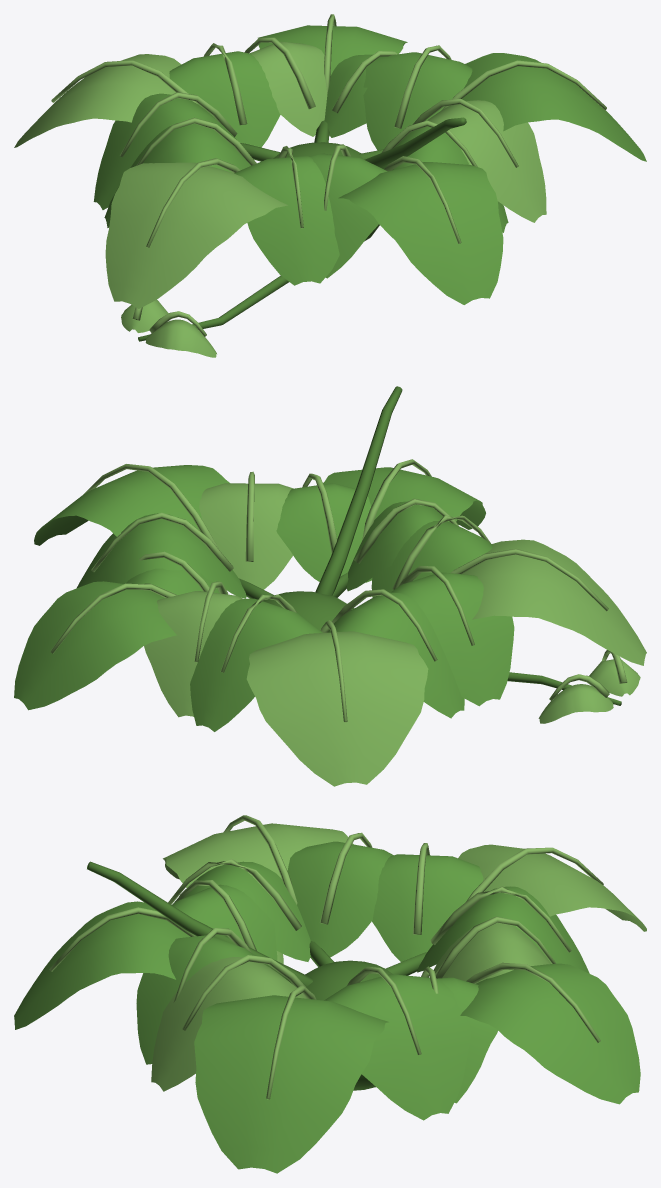
File: strawberry_plant.glb
The picture shows the model from 3 angles, top to bottom: view 1: azimuth 30°, elevation 25°; view 2: azimuth 150°, elevation 25°; view 3: azimuth 270°, elevation 25°; orthographic projection. The views are drawn at different scales.
Parts seen in each view (by area): view 1: StrawberryPlant | foliage and petioles, StrawberryPlant | crown; view 2: StrawberryPlant | foliage and petioles, StrawberryPlant | crown; view 3: StrawberryPlant | foliage and petioles, StrawberryPlant | crown.
Part boxes in pixels (x1=…): StrawberryPlant | foliage and petioles: x1=14, y1=14, x2=646, y2=357; StrawberryPlant | crown: x1=273, y1=142, x2=379, y2=241; StrawberryPlant | foliage and petioles: x1=14, y1=386, x2=646, y2=786; StrawberryPlant | crown: x1=263, y1=591, x2=354, y2=630; StrawberryPlant | foliage and petioles: x1=14, y1=815, x2=646, y2=1173; StrawberryPlant | crown: x1=305, y1=960, x2=392, y2=1090.
Bounding box in the file's own units: 0.9851 × 0.36 × 0.8829.
